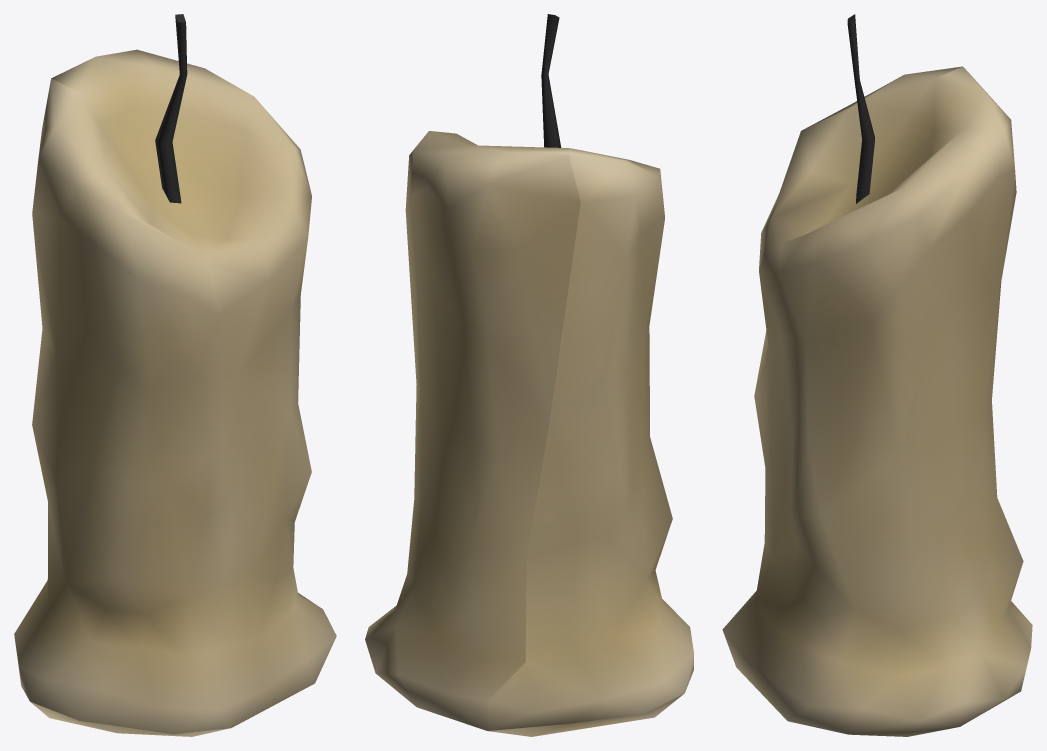
Rendered from SM_Candle_01.fbx.
3 renders of one model, left to right at view 1: azimuth 30°, elevation 25°; view 2: azimuth 150°, elevation 25°; view 3: azimuth 270°, elevation 25°, orthographic. The views are drawn at different scales.
Visible parts, largest first — view 1: polySurface3; view 2: polySurface3; view 3: polySurface3.
Boxes of the visible parts, x1,y1,x2,y2 form: polySurface3: [14, 14, 336, 736]; polySurface3: [365, 14, 693, 736]; polySurface3: [722, 14, 1032, 736].
Size of the model in its own units: 7.48 by 16.41 by 6.87.
Materials: 1 (1 with a texture image).
